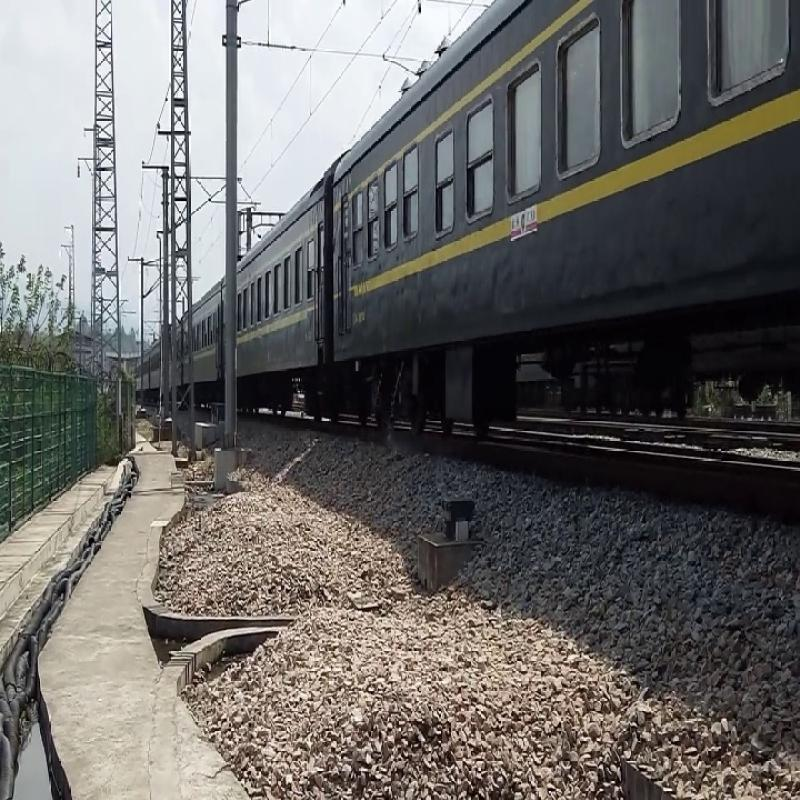train: (216, 271, 384, 432)
